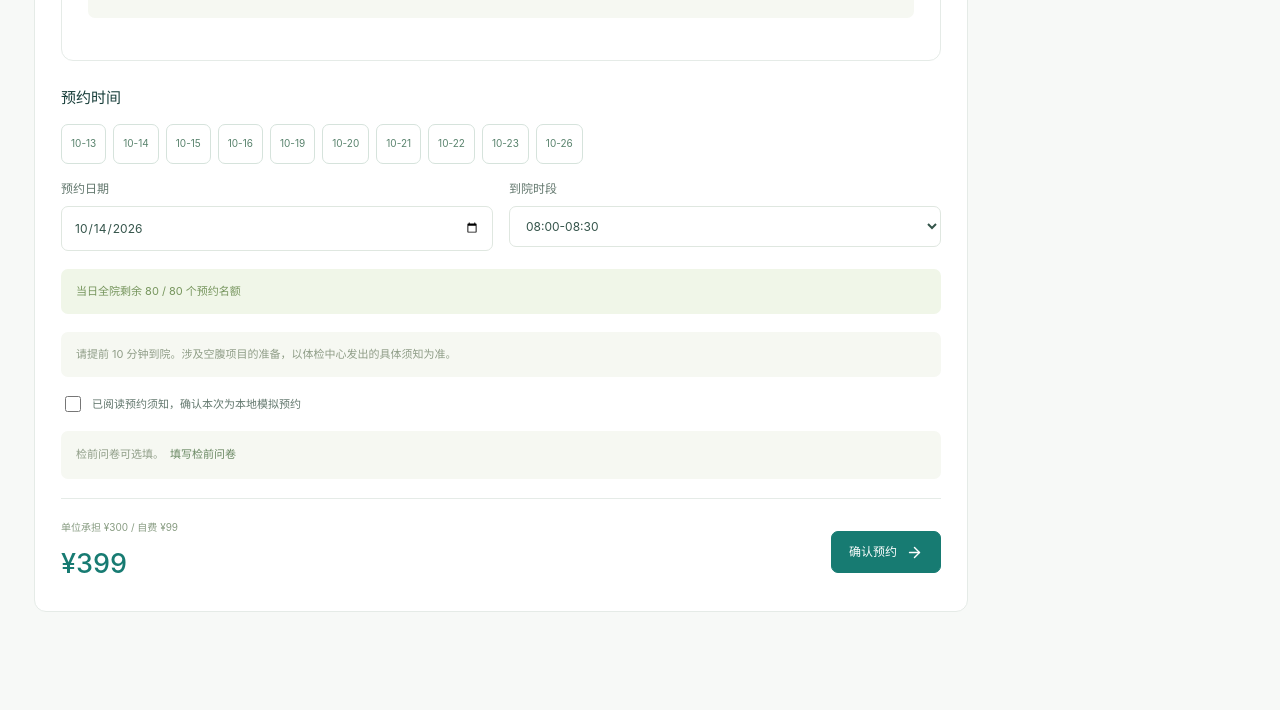
fixed exhaustive audit gap closure › T0483 H5 consumes the chosen unit order's own capacity instead of only the company schedule
(page scrolled)
Click the checkbox labelled "已阅读预约须知，确认本次为本地模拟预约". click: (73, 404)
box: [65,396,81,412]
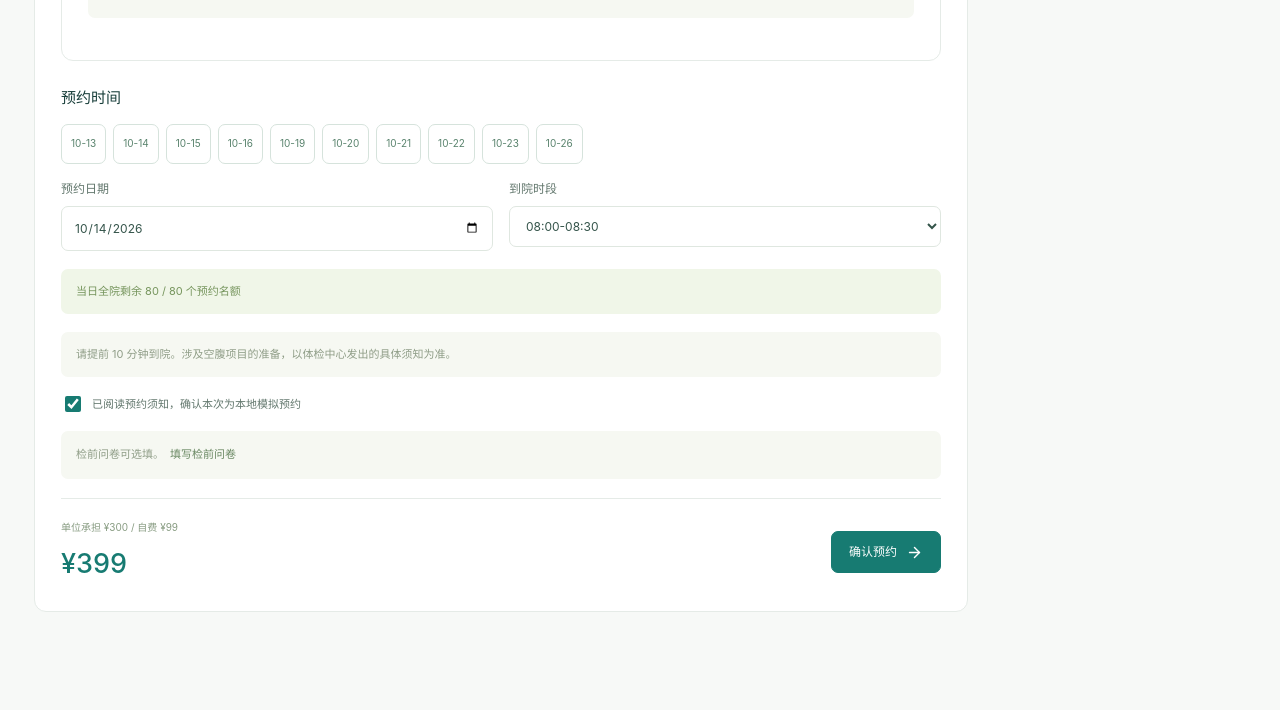
Click the button "确认预约". click: (886, 552)
box: [831,531,941,573]
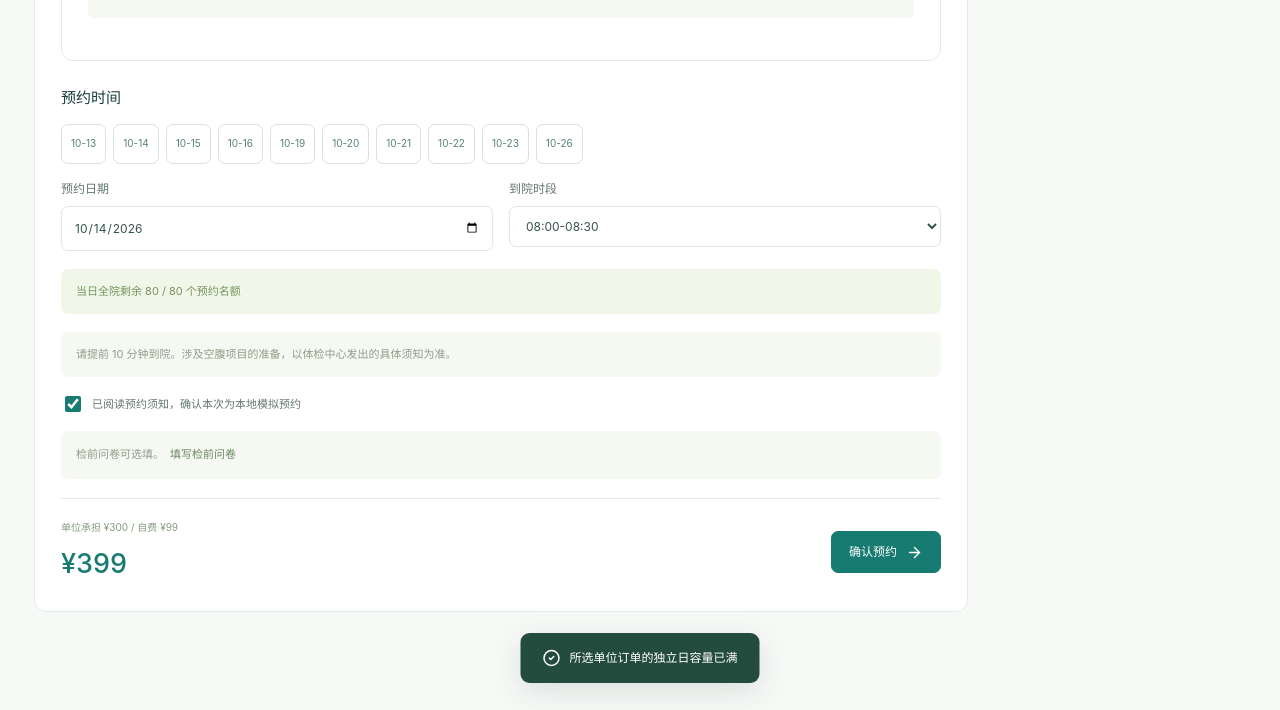
Result: the text "所选单位订单的独立日容量已满" is shown at [520,633,760,683]
